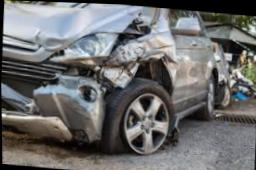Bonnet: (26, 10, 149, 52)
Bumper: (1, 71, 106, 143)
Fender: (91, 22, 185, 92)
Light: (49, 30, 119, 61)
